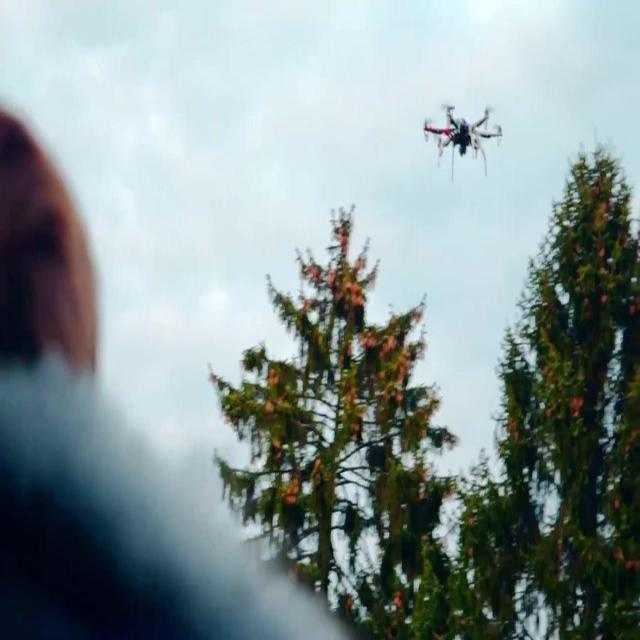drone: (421, 103, 505, 184)
